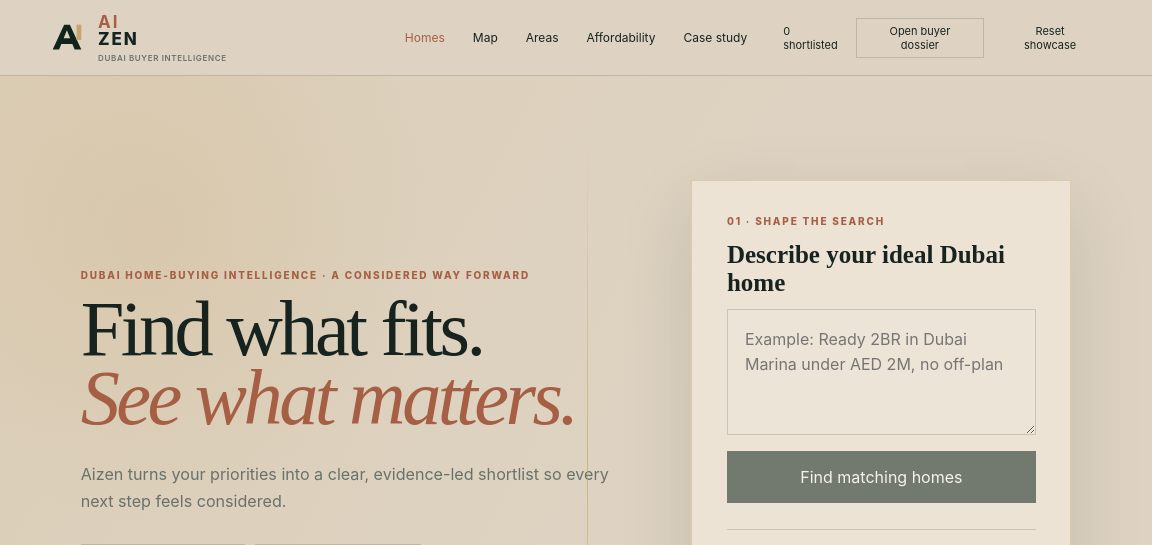
a running request can be cancelled without replaying results
The image size is (1152, 545).
In the text box labelled "Describe your ideal Dubai home": (881, 372) x1=727 y1=309 x2=1036 y2=435, type "Ready 2BR in Dubai Marina under AED 2M"
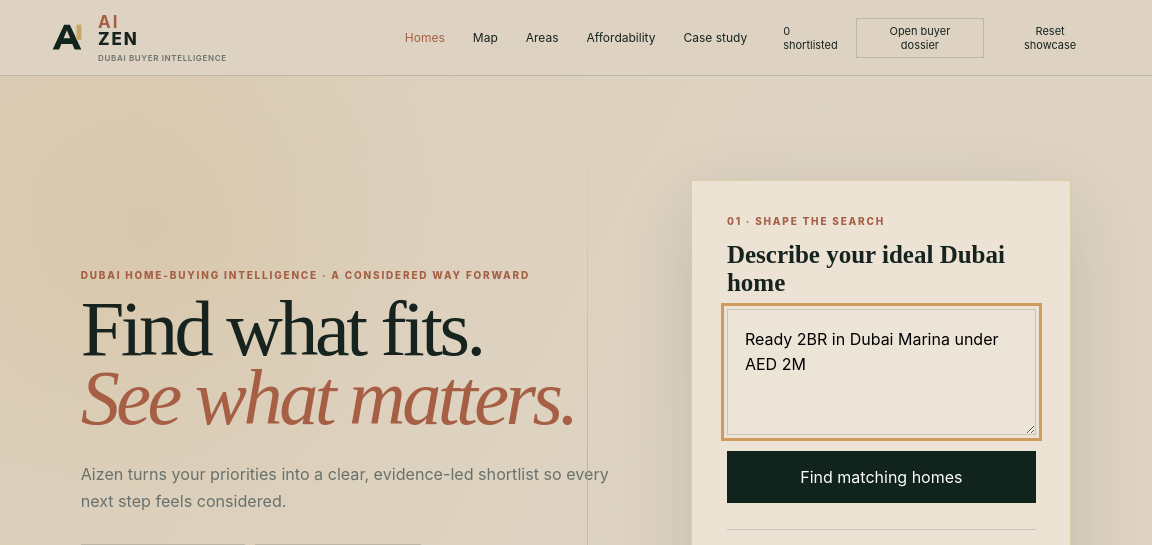
Click the button "Find matching homes": (881, 477) x1=727 y1=451 x2=1036 y2=503
(page scrolled)
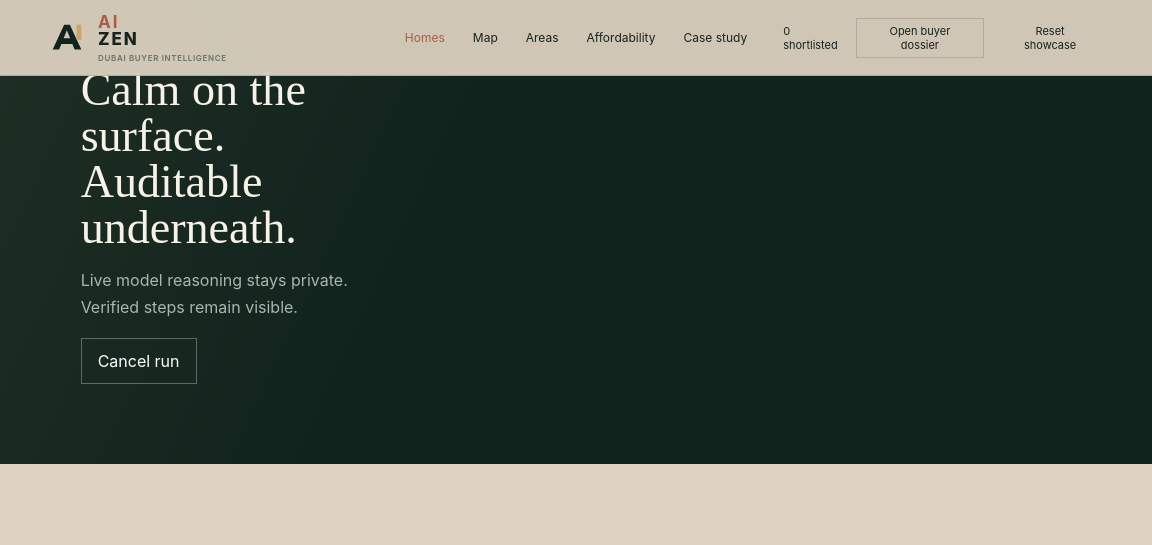
Click the button "Cancel run": (139, 360) x1=81 y1=338 x2=196 y2=384
(page scrolled)
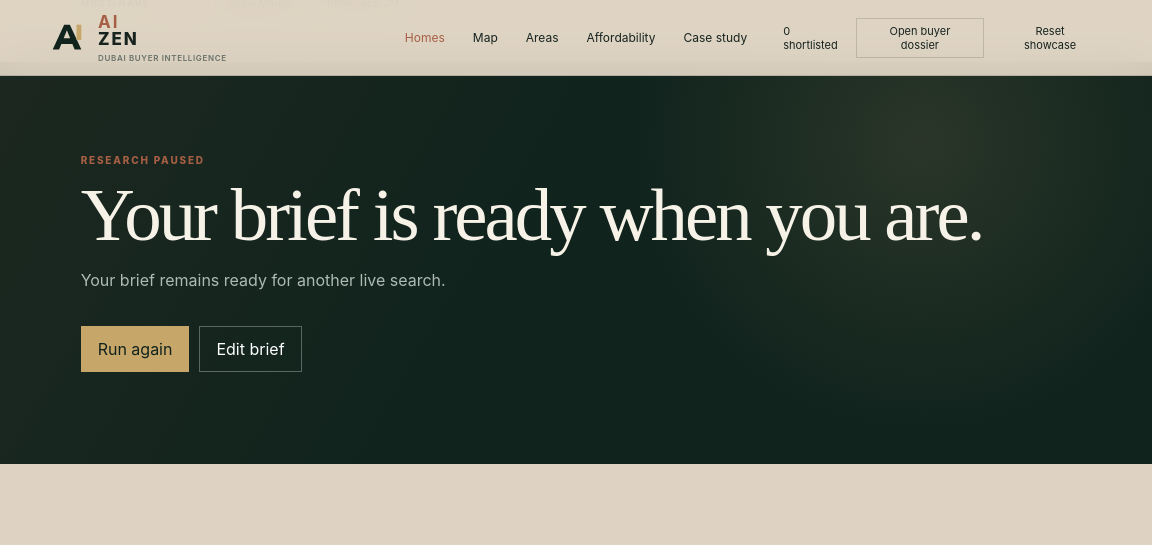
Now the heading "Your brief is ready when you are." is shown, box x1=81 y1=180 x2=1061 y2=251
